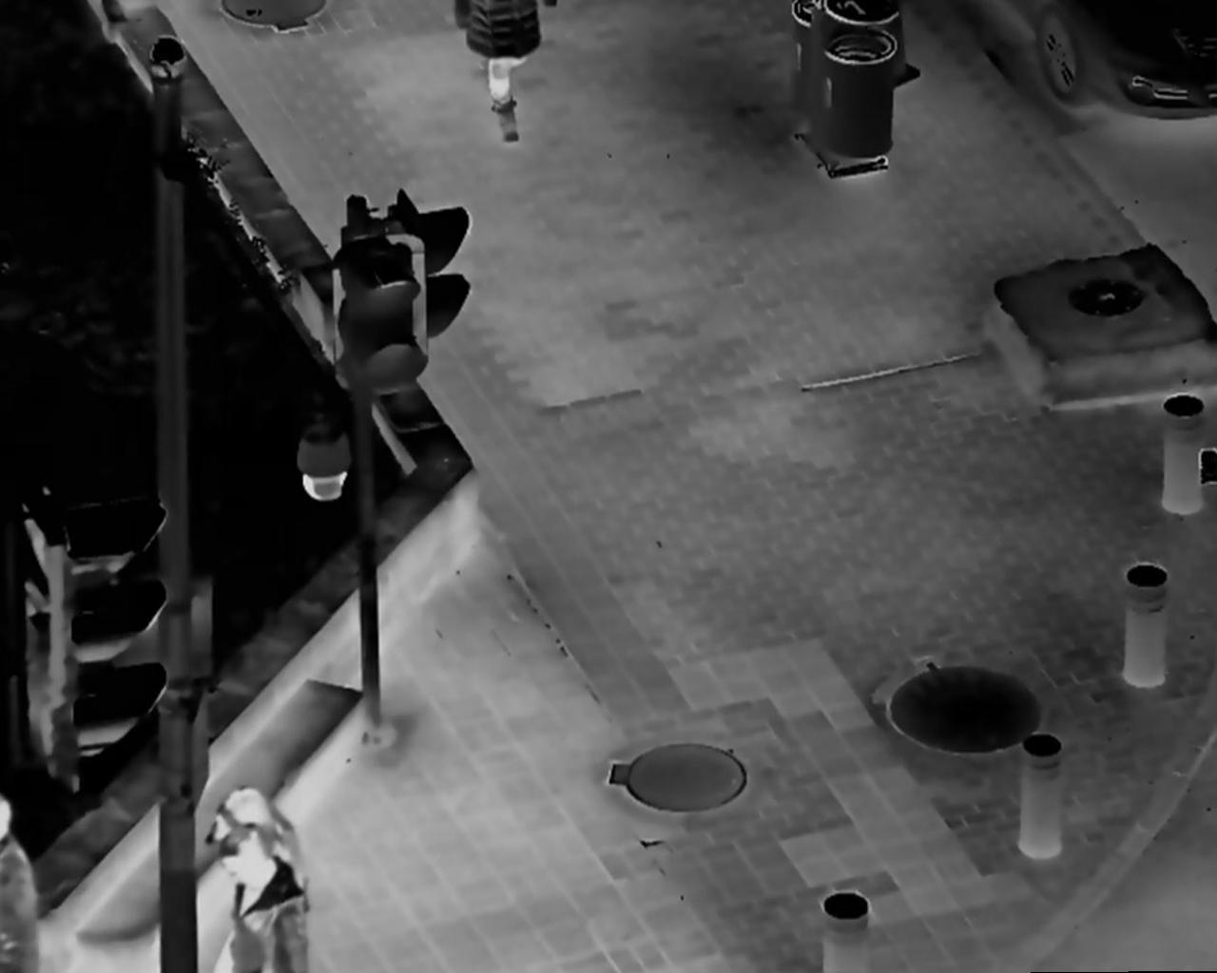person: (212, 783, 318, 946), (212, 830, 311, 973)
